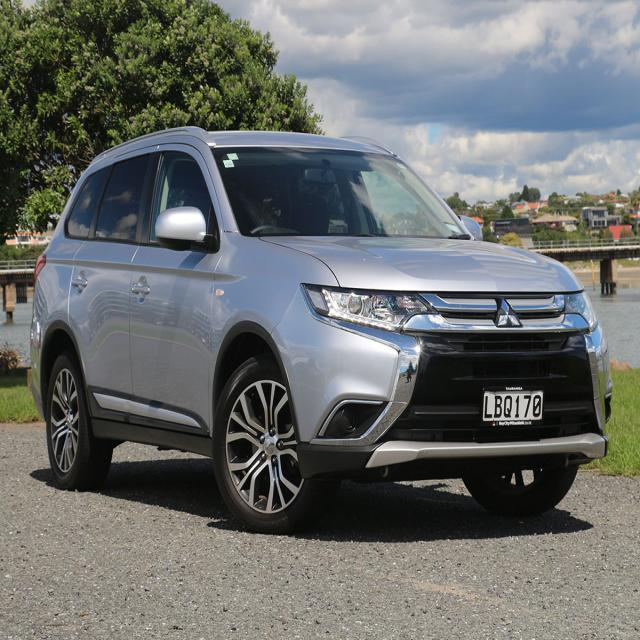light_vehicle: (28, 126, 613, 534)
